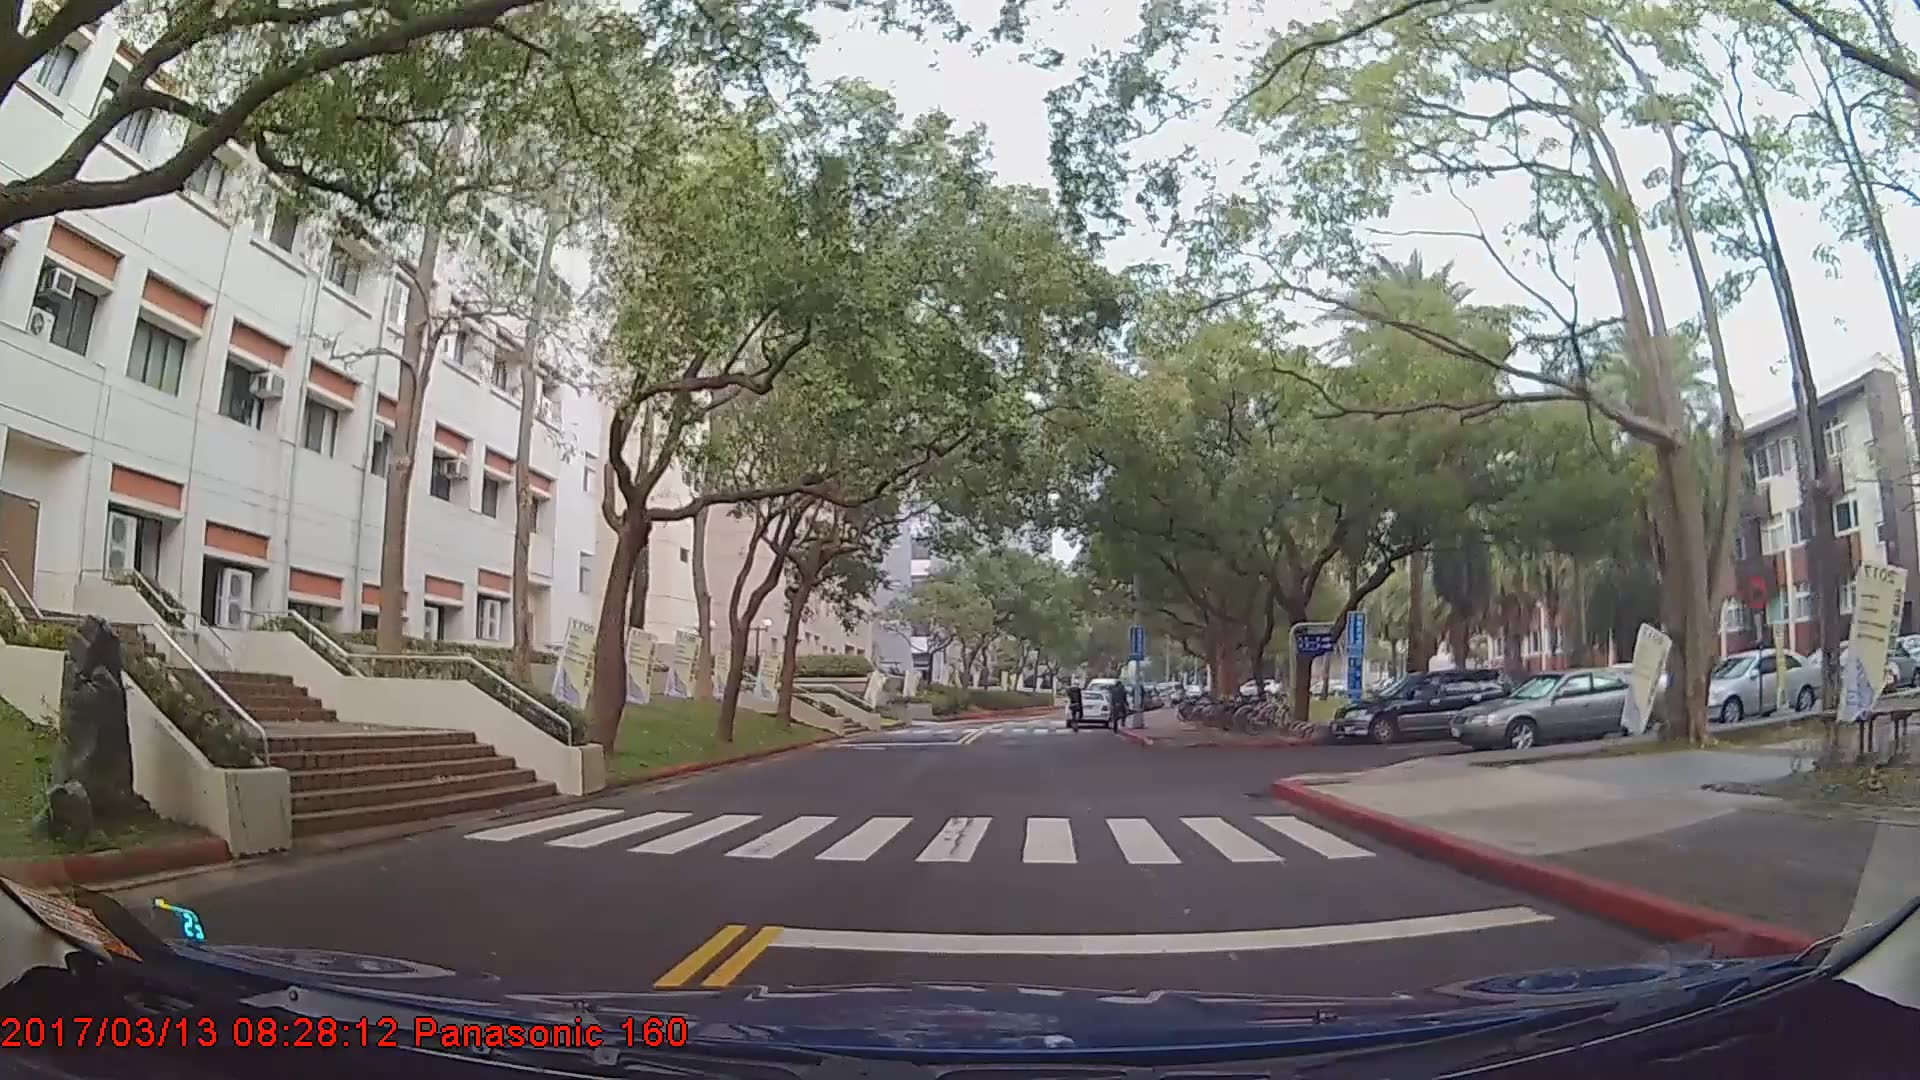pedestrian: (1111, 683, 1135, 733), (1069, 684, 1089, 736)
vehicle: (1451, 667, 1663, 754), (1330, 668, 1511, 748), (1687, 649, 1830, 725), (1064, 689, 1113, 730)
